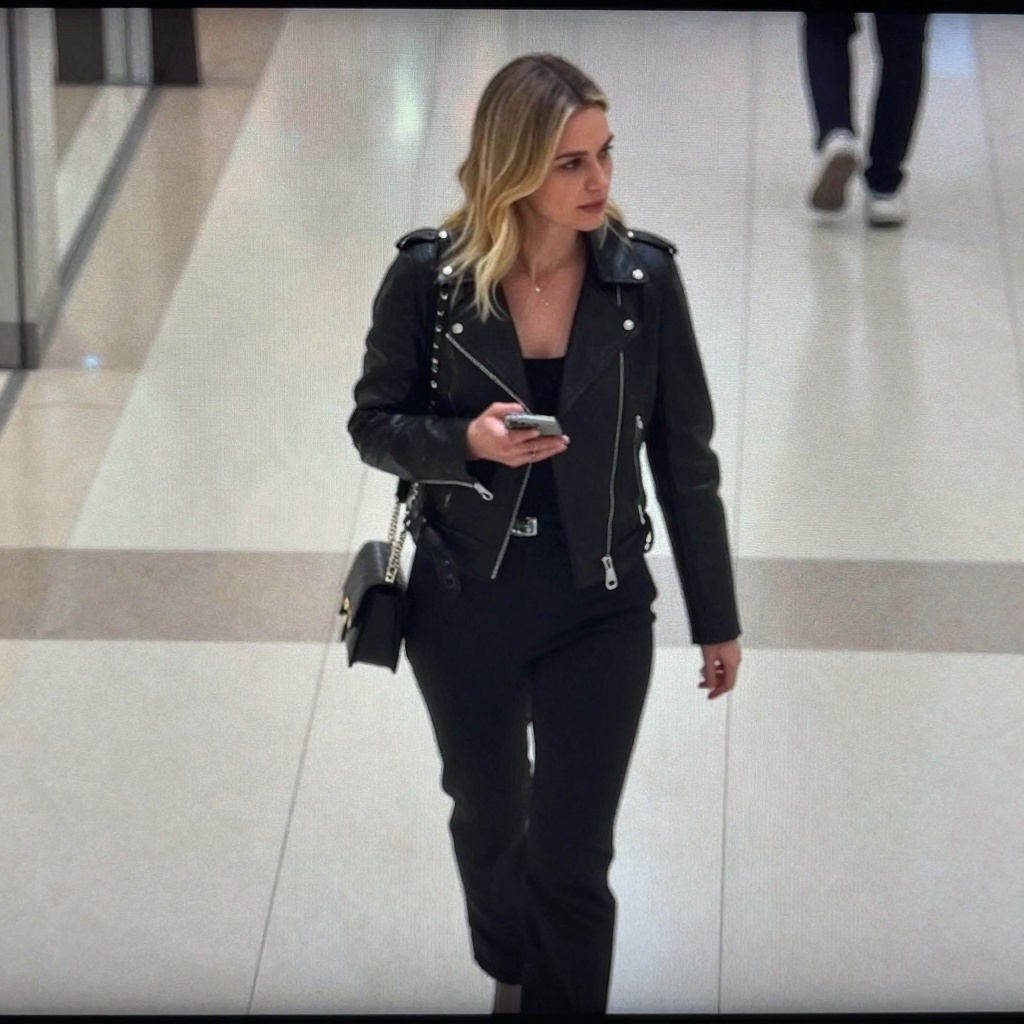Normal activity: (343, 51, 743, 1004), (801, 11, 930, 229)
